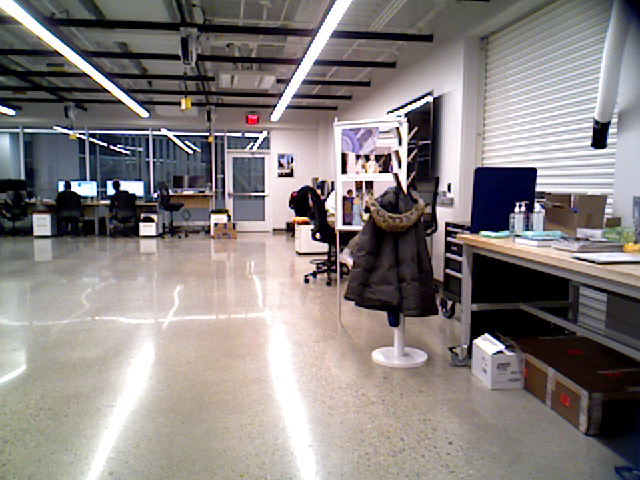painting3: (276, 153, 299, 180)
